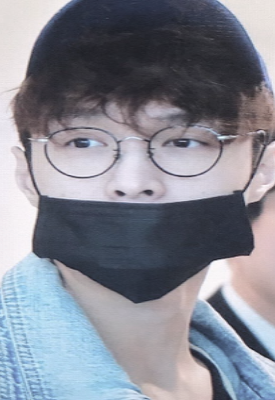mask_weared_incorrect: (29, 107, 257, 304)
